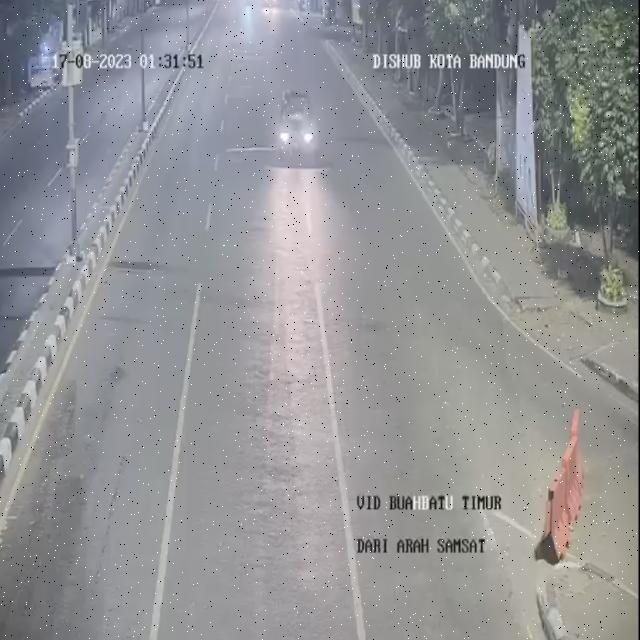cars: (276, 87, 315, 170)
